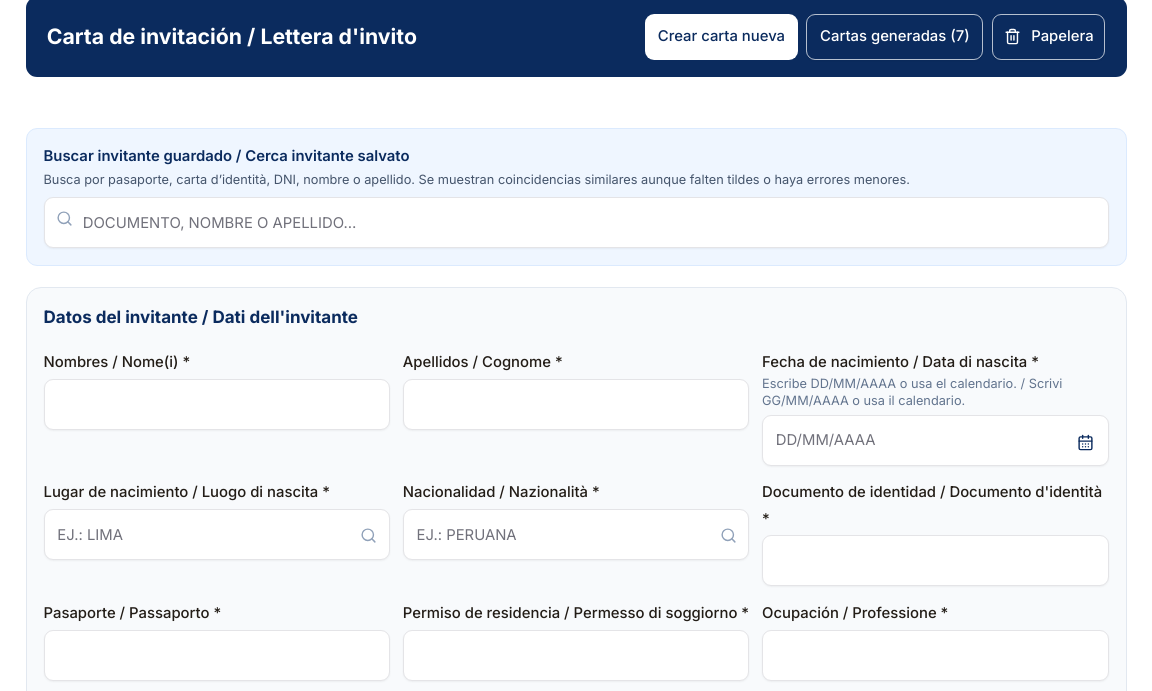
it: InvitationLetterWorkspace › muestra pestañas visibles, lista cartas por páginas y abre una carta en el formulario
Expected: the tab "Crear carta nueva" is shown, top-left (645, 14), bottom-right (798, 60)
Step 1. Click the tab "Cartas generadas (7)" → click(895, 37), box top-left (806, 14), bottom-right (983, 60)
(page scrolled)
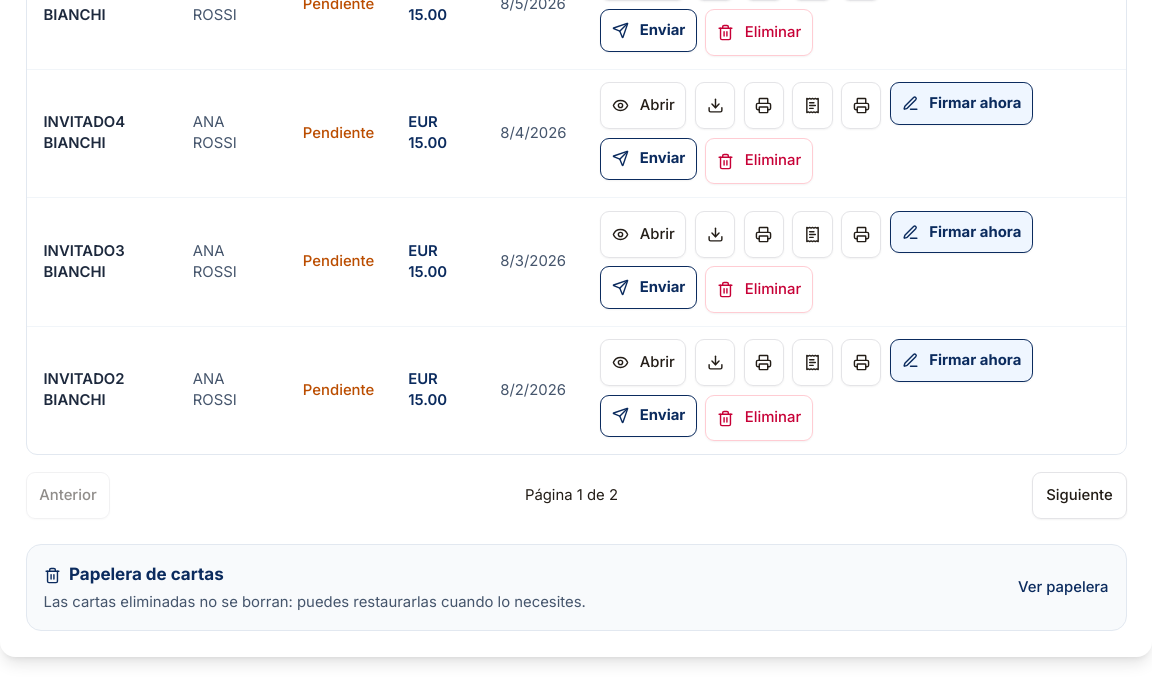
Expected: the text "INVITADO1" is not shown
Step 2. Click the button "Siguiente" → click(1080, 496), box top-left (1032, 472), bottom-right (1126, 519)
(page scrolled)
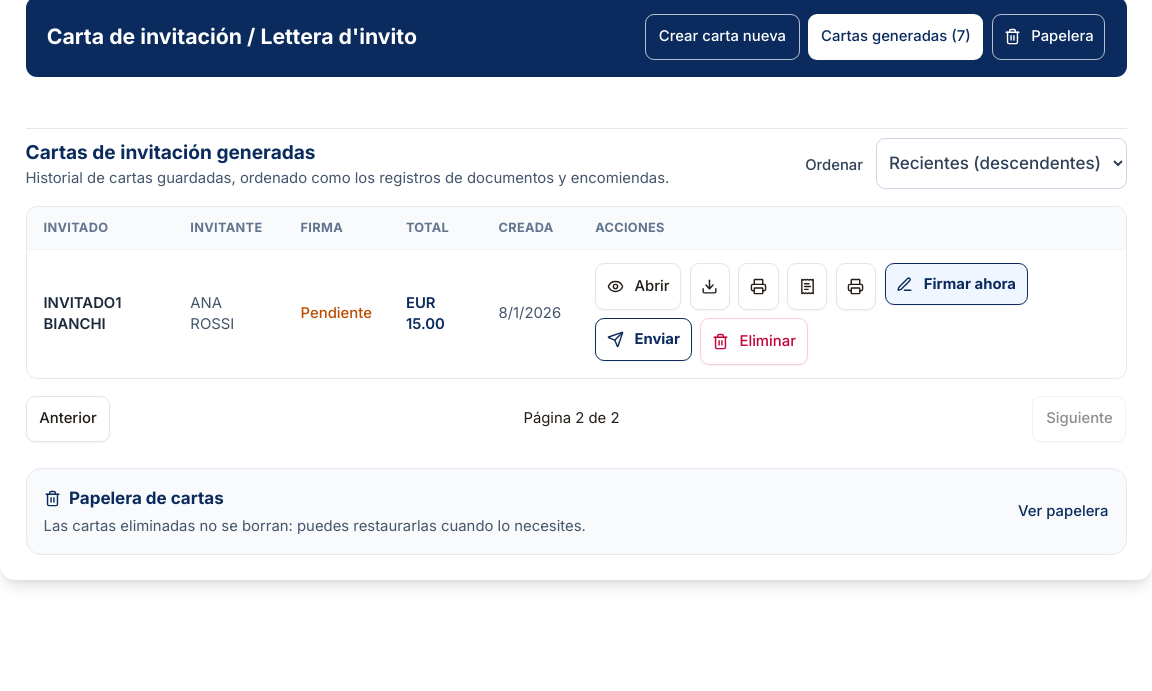
Result: the text "INVITADO1 BIANCHI" is shown at top-left (26, 250), bottom-right (173, 378)
Step 3. Click the button "Abrir" → click(638, 286), box top-left (595, 263), bottom-right (681, 310)
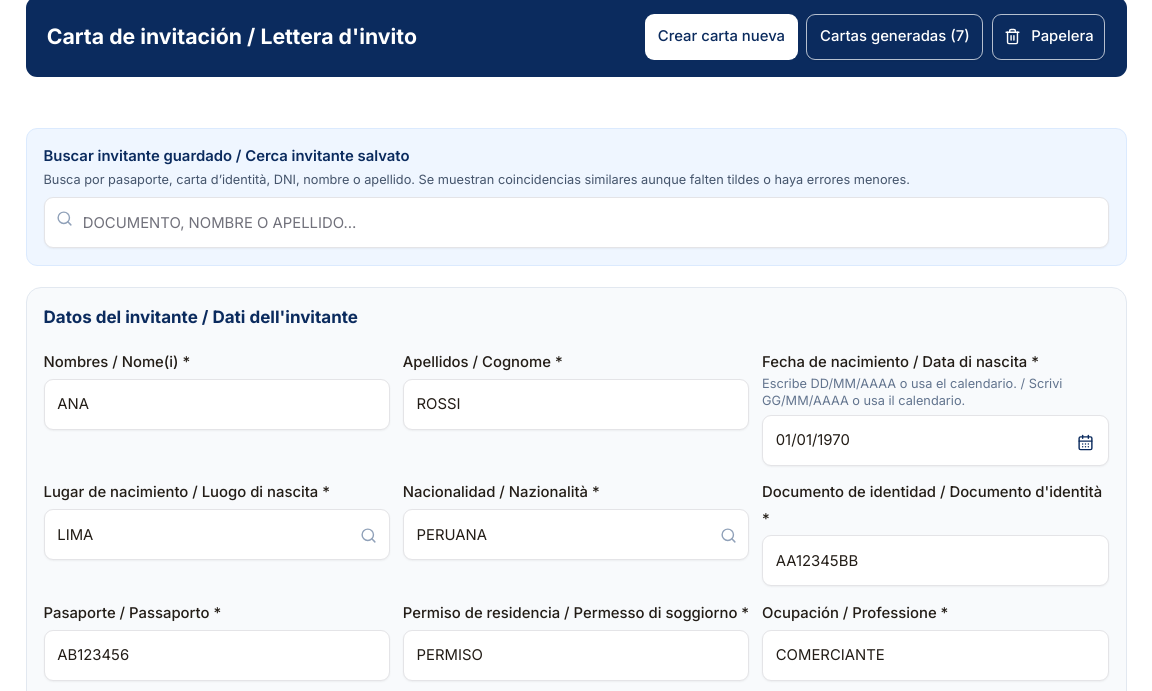
Result: the field with id "invitante-firstName" holds "ANA" at top-left (44, 379), bottom-right (390, 430)
Result: the field labelled "Buscar invitante guardado / Cerca invitante salvato" is shown at top-left (44, 197), bottom-right (1108, 248)
Step 4. Click the tab "Crear carta nueva" → click(721, 37), box top-left (645, 14), bottom-right (798, 60)
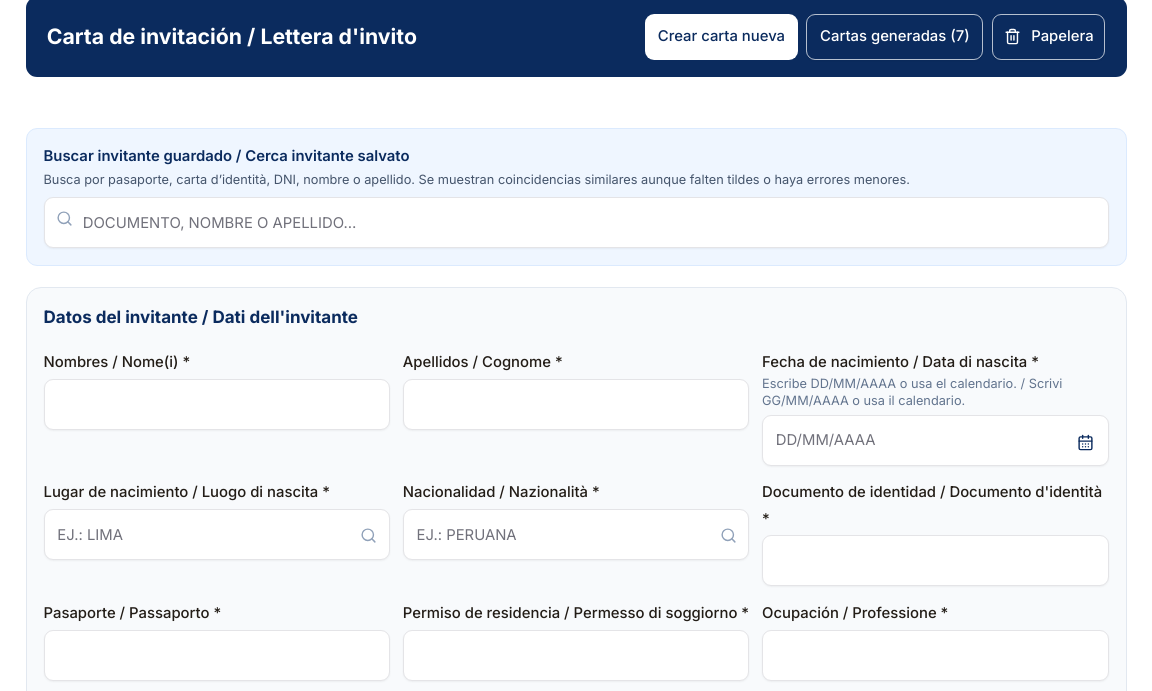
Result: the field with id "invitante-firstName" is empty at top-left (44, 379), bottom-right (390, 430)
